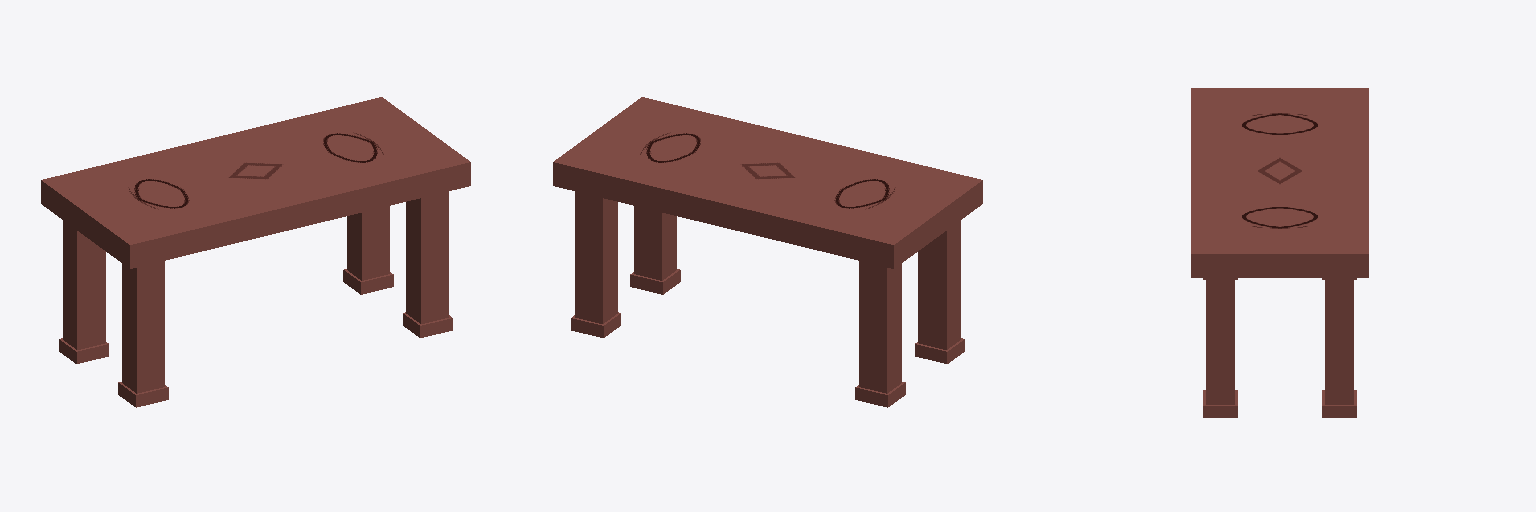
The picture shows the model from 3 angles: view 1: azimuth 30°, elevation 25°; view 2: azimuth 150°, elevation 25°; view 3: azimuth 270°, elevation 25°; orthographic projection.
Visible parts, largest first — view 1: Cube_Cube.010_Material; view 2: Cube_Cube.010_Material; view 3: Cube_Cube.010_Material.
Boxes of the visible parts, <box> form: Cube_Cube.010_Material: <box>41,97,470,407</box>; Cube_Cube.010_Material: <box>553,97,982,407</box>; Cube_Cube.010_Material: <box>1191,88,1368,417</box>.
Size of the model in its own units: 4.42 by 2.1 by 2.
Materials: 1 (1 with a texture image).